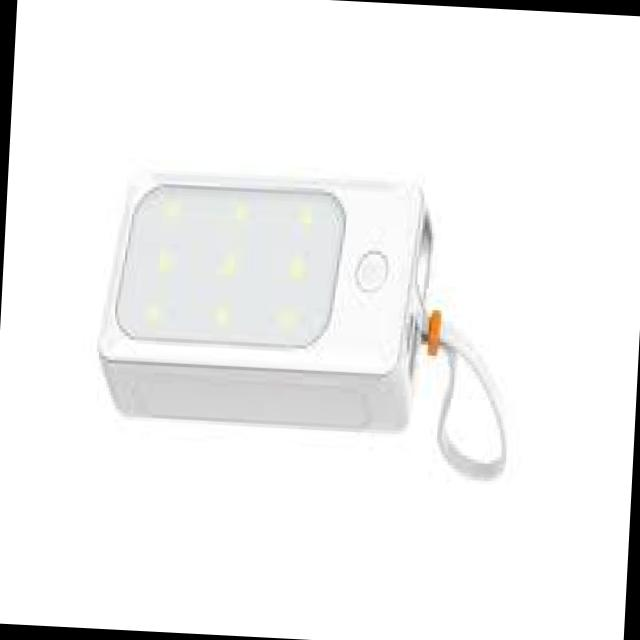power_bank: (95, 165, 438, 440)
